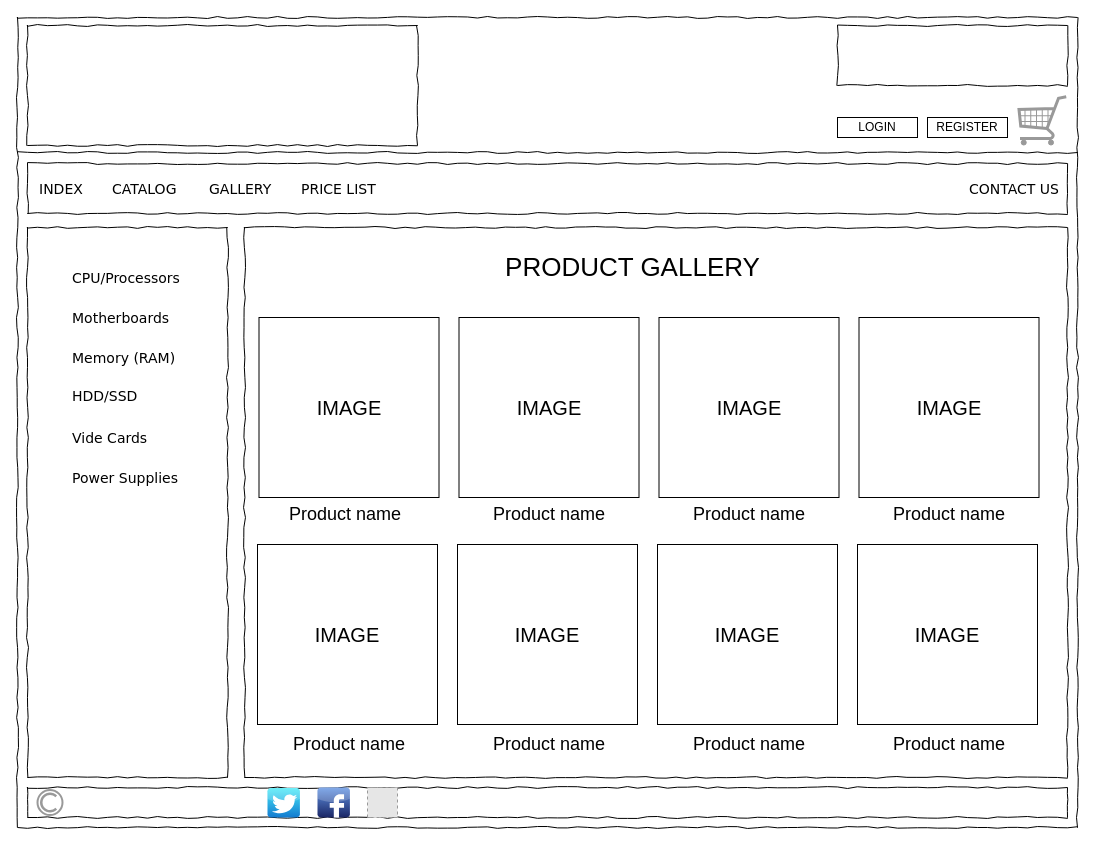
Image size: 1095x845. Some labels were removed from this diagram. Grey dashed boxes stand in for pictures. The centre of each missing label's shape, as x and y in pixels:
"Contact" goes at (952,55).
"LOGO" goes at (222,85).
